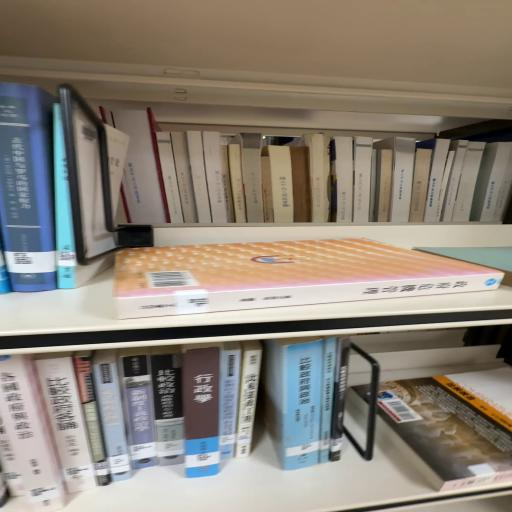flat: (114, 239, 504, 320), (376, 367, 512, 493)
